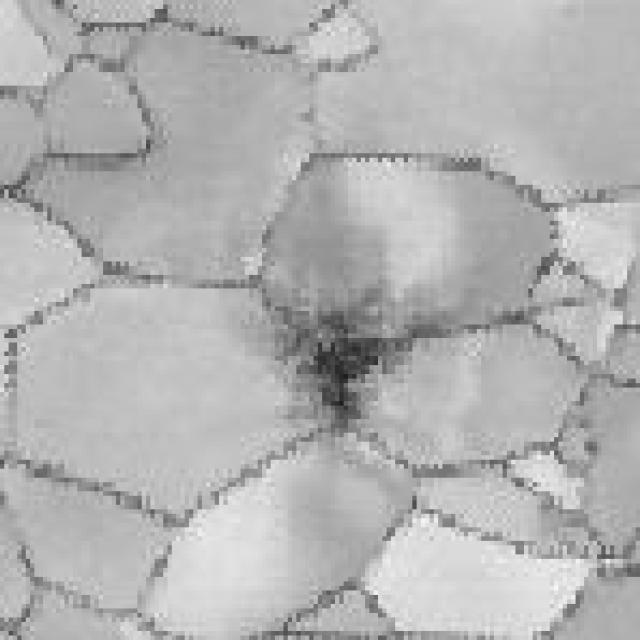good_void: (252, 279, 448, 437)
